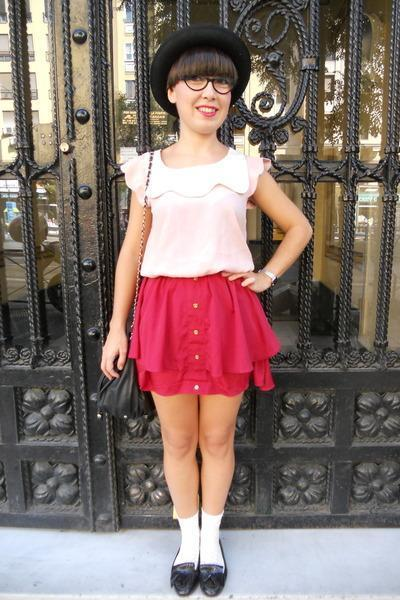hat: (140, 26, 275, 107)
shirt: (125, 148, 273, 276)
shoe: (170, 540, 227, 596)
skirt: (128, 270, 280, 399)
